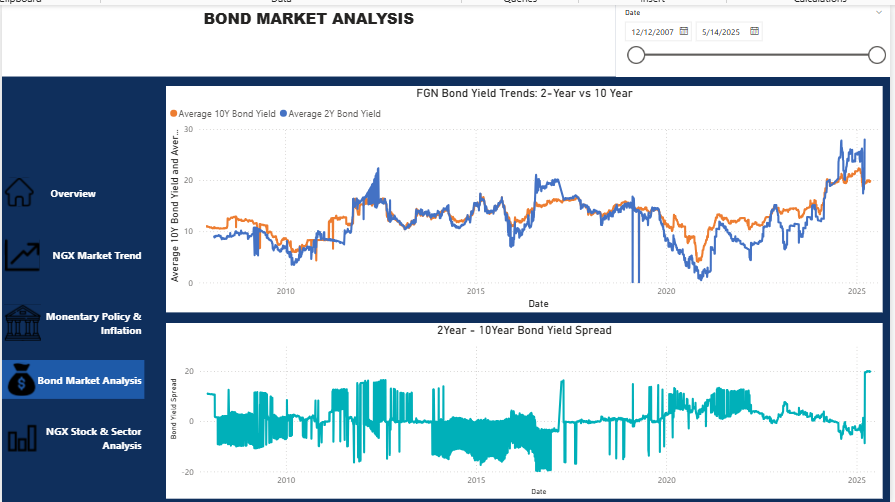

This screenshot's page, from the dashboard's own definition file:
{"tool":"powerbi","page":{"name":"Bond Market Analysis","canvas":[1280,720],"ordinal":3},"visuals":[{"type":"lineChart","title":"FGN Bond Yield Trends: 2-Year vs 10 Year","fields":{"Category":["Fact_BondYields.Date"],"Y":["Fact_BondYields.Average 10Y Bond Yield","Fact_BondYields.Average 2Y Bond Yield"]},"box":[235.8,116.2,1032.2,326.4],"z":0},{"type":"lineChart","title":"2Year - 10Year Bond Yield Spread ","fields":{"Category":["Fact_BondYields.Date"],"Y":["Fact_BondYields.Bond Yield Spread"]},"box":[235.8,458,1032.2,252.9],"z":1000},{"type":"slicer","fields":{"Values":["Fact_BondYields.Date"]},"box":[883.5,0,396.5,102.5],"z":2000},{"type":"actionButton","box":[0,244.4,205.1,49.6],"z":3000},{"type":"actionButton","box":[0,331.5,205.1,58.1],"z":4000},{"type":"actionButton","box":[0,427.2,205.1,59.8],"z":5000},{"type":"actionButton","box":[0,511,205.1,56.4],"z":6000},{"type":"actionButton","box":[0,594.7,205.1,58.1],"z":7000},{"type":"textbox","box":[0,0,883.5,102.5],"z":8000}]}

Visuals, with their boxes on the page's 1280x720 design canvas (x1, y1, x2, y2). These are canvas units, not pixel positions in the 895x502 screenshot, which may show the page scaled, cropped or inside an application window:
"FGN Bond Yield Trends: 2-Year vs 10 Year" lineChart: pyautogui.locateOnScreen(236, 116, 1268, 443)
"2Year - 10Year Bond Yield Spread " lineChart: pyautogui.locateOnScreen(236, 458, 1268, 711)
slicer - Fact_BondYields.Date: pyautogui.locateOnScreen(884, 0, 1280, 102)
actionButton: pyautogui.locateOnScreen(0, 244, 205, 294)
actionButton: pyautogui.locateOnScreen(0, 332, 205, 390)
actionButton: pyautogui.locateOnScreen(0, 427, 205, 487)
actionButton: pyautogui.locateOnScreen(0, 511, 205, 567)
actionButton: pyautogui.locateOnScreen(0, 595, 205, 653)
textbox: pyautogui.locateOnScreen(0, 0, 884, 102)
